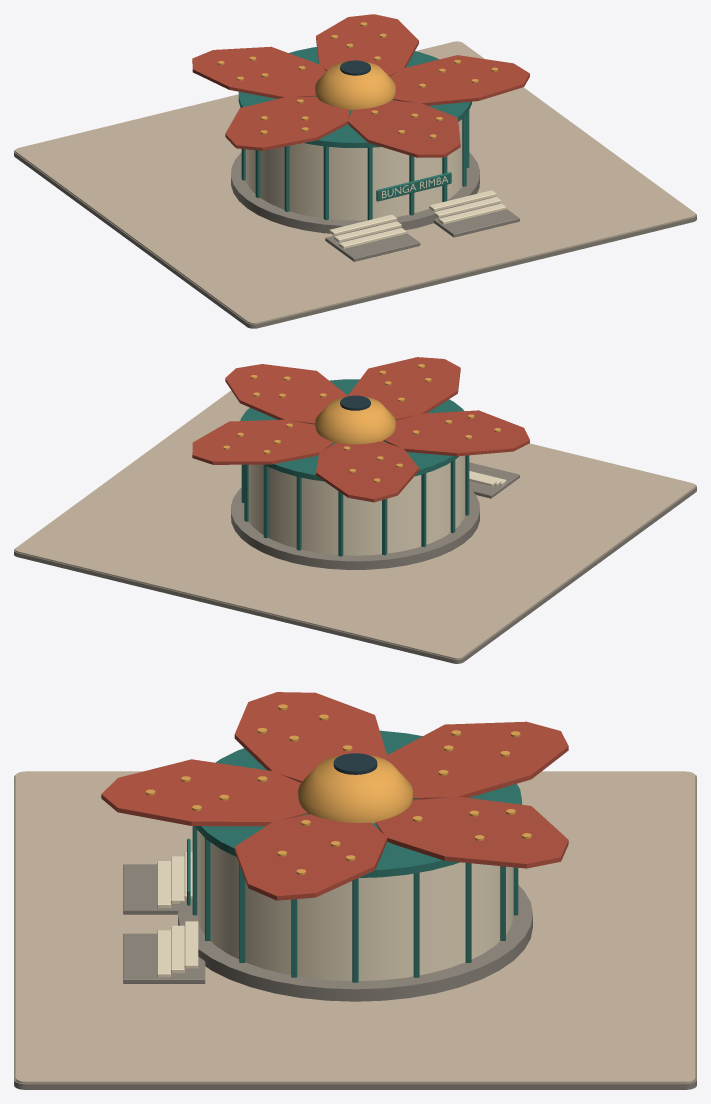
3 renders of one model, top to bottom at view 1: azimuth 30°, elevation 25°; view 2: azimuth 150°, elevation 25°; view 3: azimuth 270°, elevation 25°, orthographic. The views are drawn at different scales.
Visible parts, largest first — view 1: Public Plaza, Rafflesia Petals, Pavilion Base, Entry Steps, Flower Crown, Facade Colonnade, Entry Sign, Petal Relief; view 2: Public Plaza, Rafflesia Petals, Pavilion Base, Facade Colonnade, Flower Crown, Entry Steps, Petal Relief; view 3: Public Plaza, Rafflesia Petals, Pavilion Base, Entry Steps, Flower Crown, Facade Colonnade, Petal Relief.
Part boxes in pixels (box(x1,y1,x2,y2)): Public Plaza: box(14, 41, 696, 328); Rafflesia Petals: box(192, 14, 529, 157); Pavilion Base: box(231, 47, 479, 233); Entry Steps: box(325, 190, 519, 261); Flower Crown: box(315, 60, 395, 110); Facade Colonnade: box(241, 110, 469, 220); Entry Sign: box(376, 172, 451, 201); Petal Relief: box(217, 22, 498, 138); Public Plaza: box(14, 390, 696, 663); Rafflesia Petals: box(192, 357, 529, 502); Pavilion Base: box(231, 379, 479, 569); Facade Colonnade: box(241, 455, 469, 556); Flower Crown: box(315, 395, 395, 444); Entry Steps: box(469, 462, 519, 498); Petal Relief: box(223, 364, 500, 482); Public Plaza: box(14, 771, 696, 1089); Rafflesia Petals: box(101, 692, 568, 900); Pavilion Base: box(178, 730, 532, 1001); Entry Steps: box(123, 852, 205, 983); Flower Crown: box(298, 753, 412, 823); Facade Colonnade: box(192, 826, 518, 982); Petal Relief: box(146, 704, 531, 874).
Bounding box in the file's own units: 27 × 6.93 × 25.
